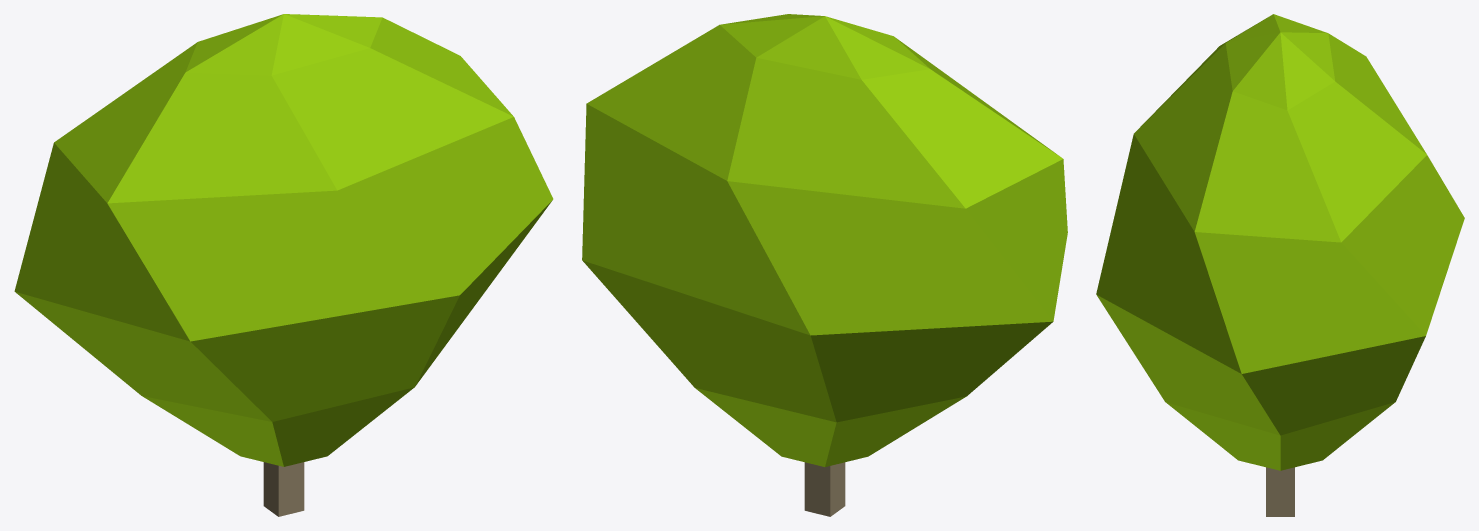
File: tree_spheric_7.fbx
3 views of the same model, side by side, from view 1: azimuth 30°, elevation 25°; view 2: azimuth 150°, elevation 25°; view 3: azimuth 270°, elevation 25° (orthographic). The views are drawn at different scales.
Visible parts, largest first — view 1: tree_spheric_7; view 2: tree_spheric_7; view 3: tree_spheric_7.
Part boxes in pixels (box(x1,y1,x2,y2)): tree_spheric_7: box(14, 14, 553, 516); tree_spheric_7: box(582, 14, 1067, 516); tree_spheric_7: box(1096, 14, 1464, 516).
Size of the model in its own units: 237 by 225 by 157.
